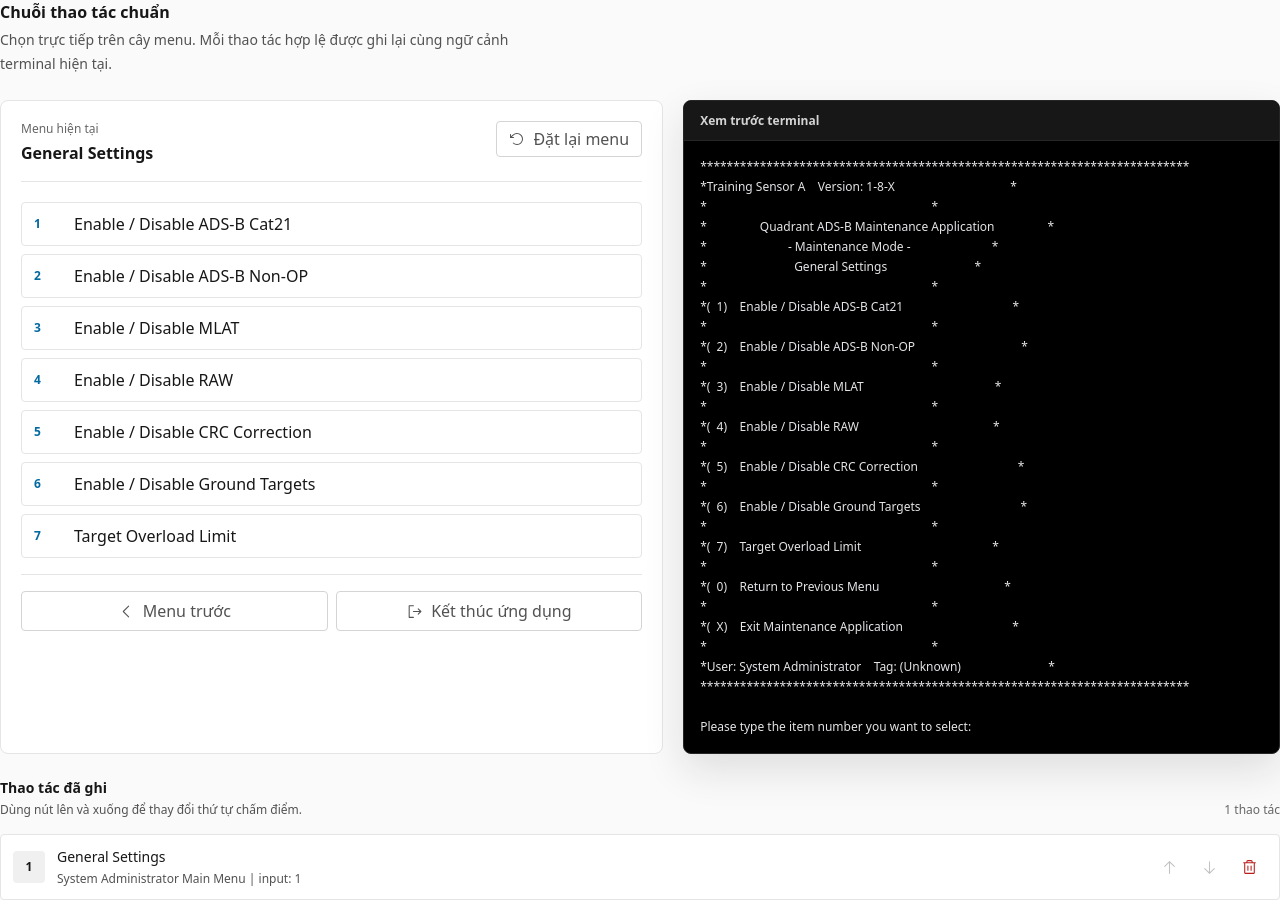
it: ActionBuilder › replays existing actions before adding from the current menu
Expected: the heading "General Settings" is shown, [21,141,153,165]
Click the button "1 Enable / Disable ADS-B Cat21": (183, 224) [21,202,642,246]
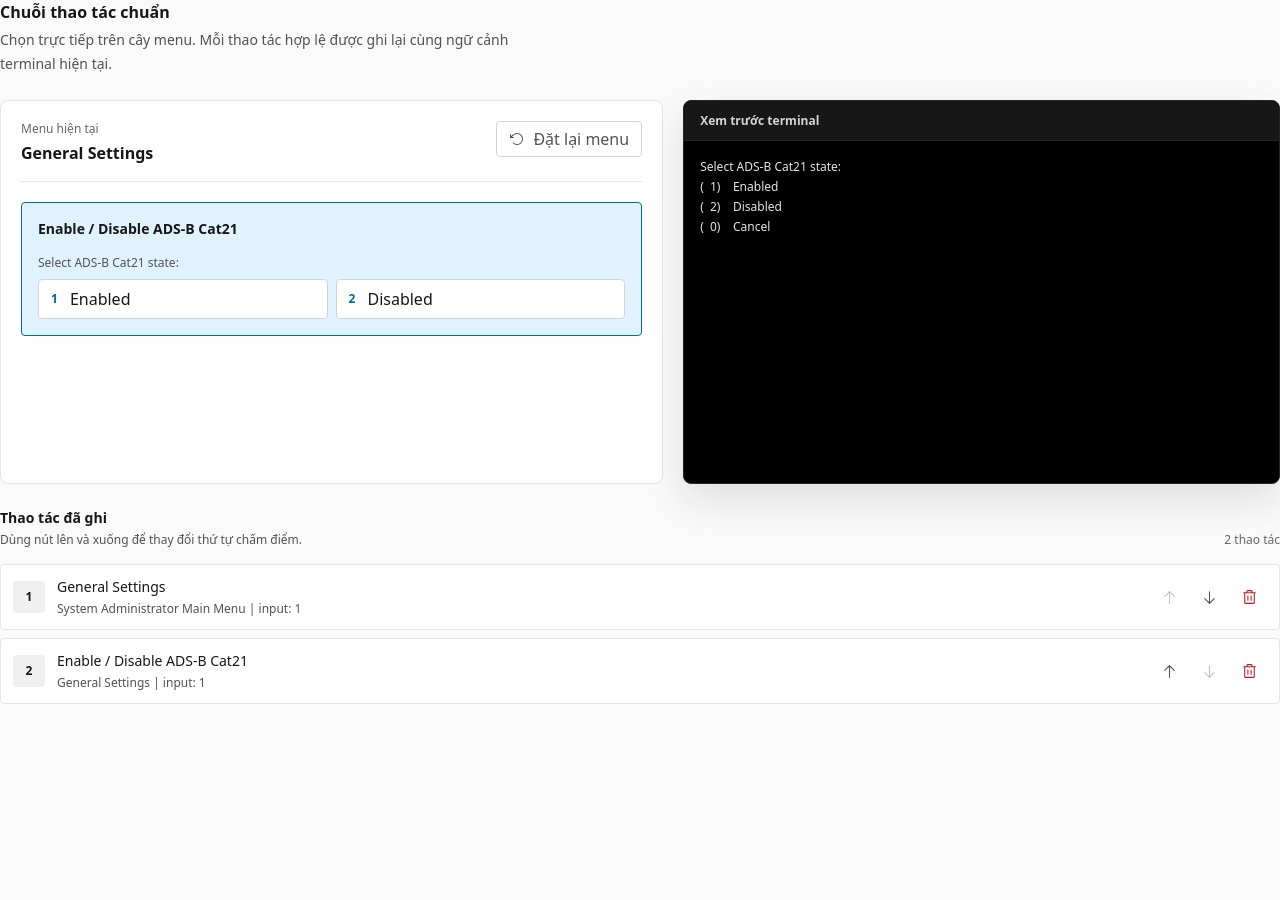
Expected: the text "2 thao tác" is shown, [1224,532,1279,548]
